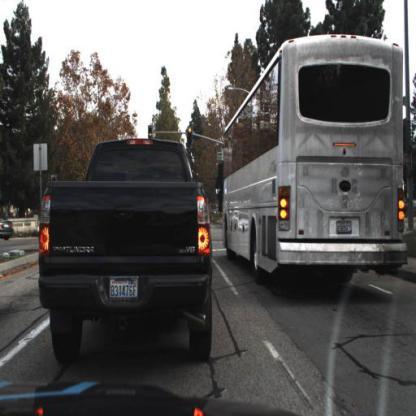car: (44, 139, 211, 355)
trafficLight: (149, 125, 154, 141), (51, 175, 59, 183)
trafficLight-Red: (187, 127, 194, 147)
truck: (222, 39, 405, 287)
